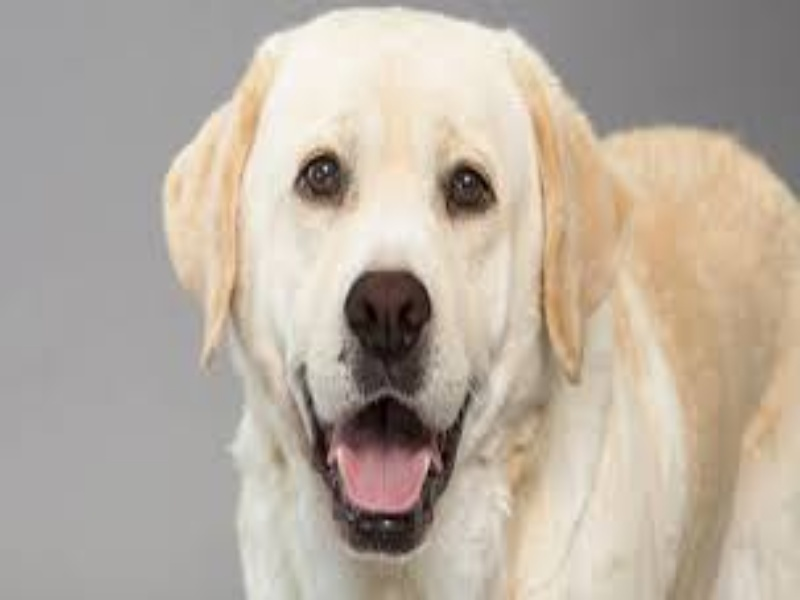dog: (147, 5, 780, 600)
